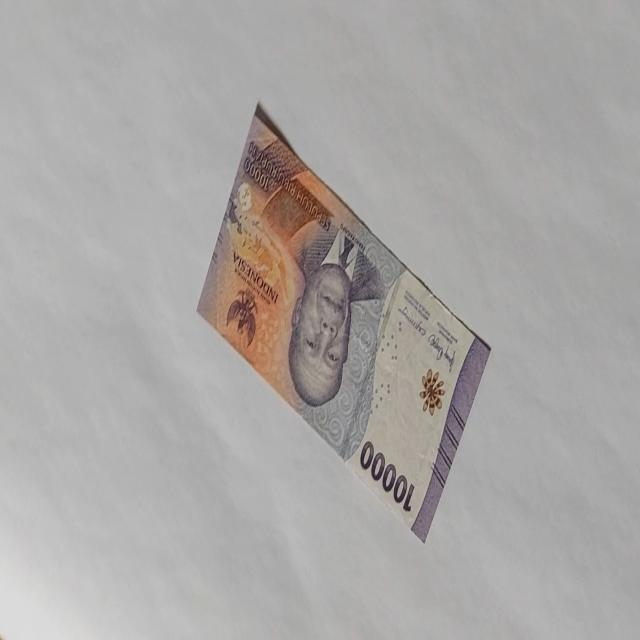sepuluh ribu rupiah: (196, 103, 492, 544), (358, 438, 416, 513)
